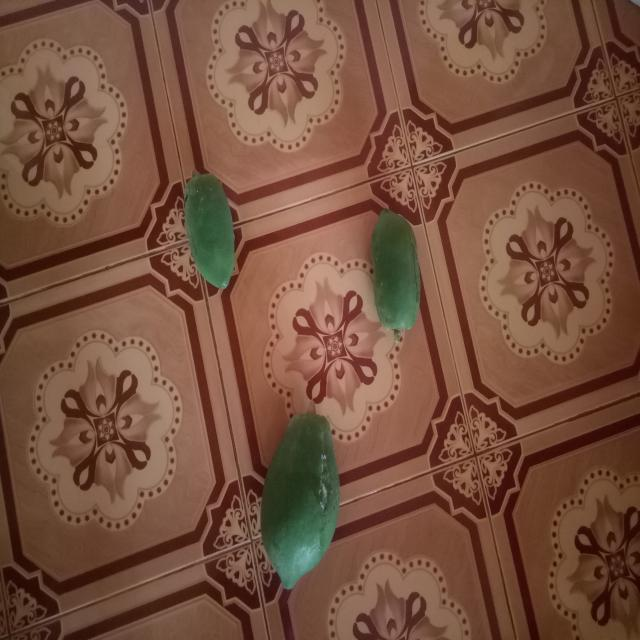Pepaya unrippen: (255, 416, 339, 594), (351, 202, 427, 354), (174, 174, 243, 300)
